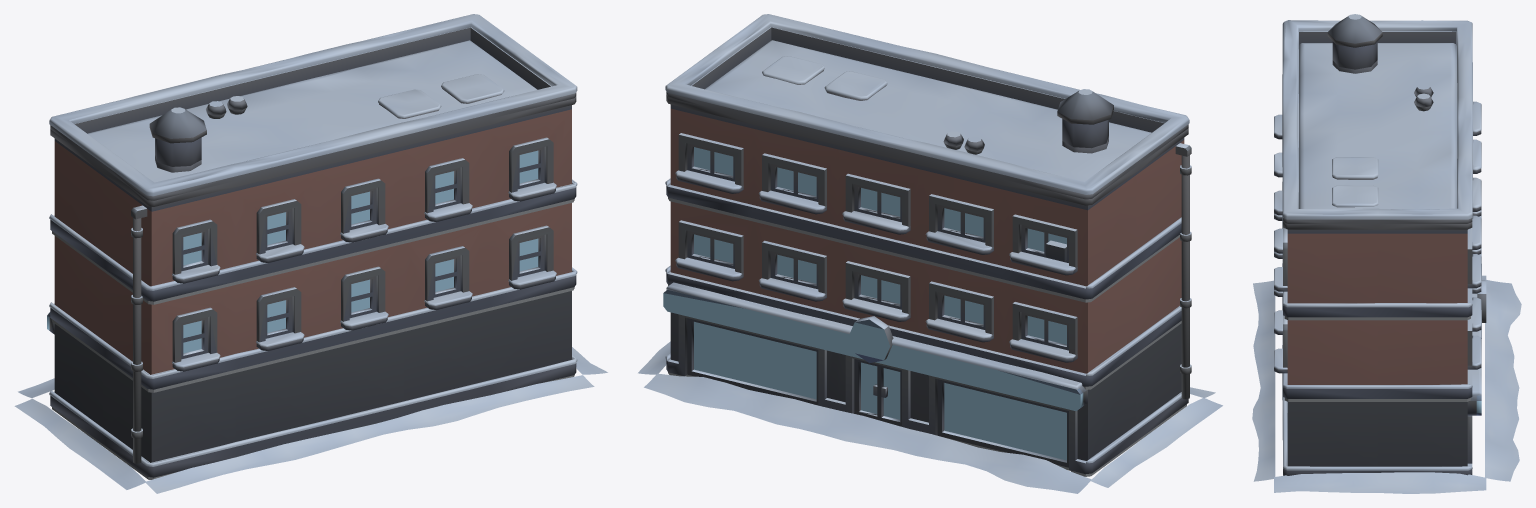
File: bldg_k.glb
3 renders of one model, left to right at view 1: azimuth 30°, elevation 25°; view 2: azimuth 150°, elevation 25°; view 3: azimuth 270°, elevation 25°, orthographic. The views are drawn at different scales.
Visible parts, largest first — view 1: Base, Roof; view 2: Base, Roof; view 3: Base, Roof.
Part boxes in pixels (bbox=[...]): Base: bbox=[14, 32, 607, 493]; Roof: bbox=[49, 14, 577, 200]; Base: bbox=[638, 32, 1222, 493]; Roof: bbox=[665, 14, 1189, 199]; Base: bbox=[1252, 36, 1521, 493]; Roof: bbox=[1282, 14, 1472, 223].
Size of what is drawn, in the model's own units: 21.89 by 14.12 by 11.37.
